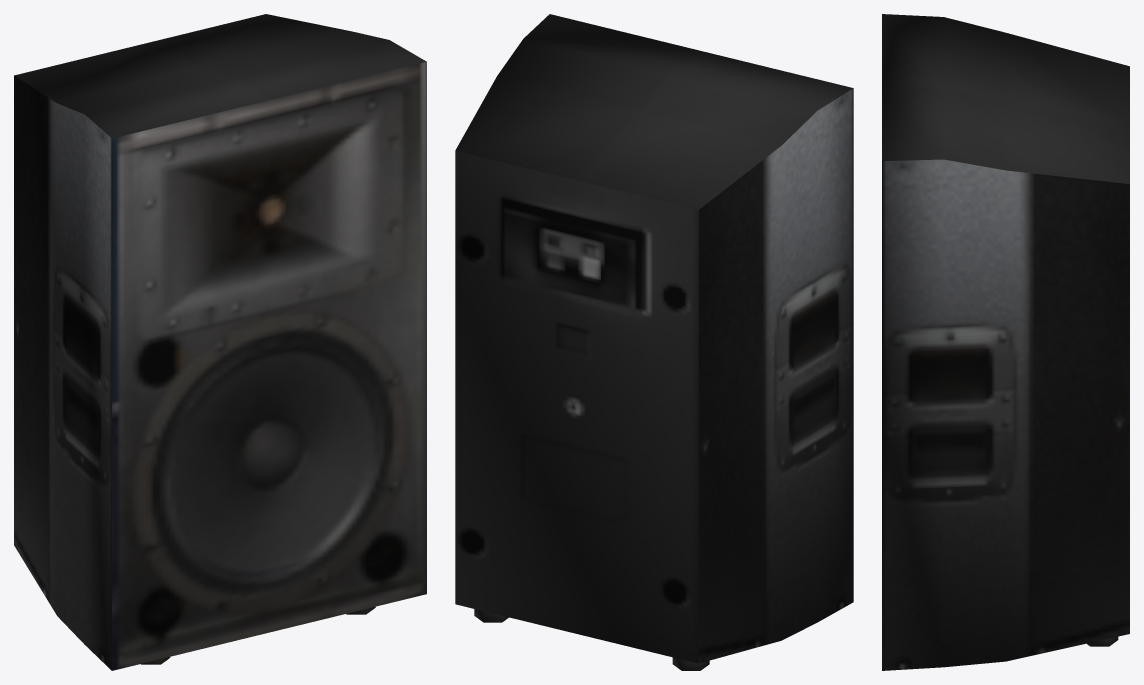
Rendered from speaker.fbx.
The picture shows the model from 3 angles, left to right: view 1: azimuth 30°, elevation 25°; view 2: azimuth 150°, elevation 25°; view 3: azimuth 270°, elevation 25°; orthographic projection. The views are drawn at different scales.
Visible parts, largest first — view 1: speaker; view 2: speaker; view 3: speaker.
Part boxes in pixels (left/top/right/bottom): speaker: left=14, top=14, right=426, bottom=670; speaker: left=455, top=14, right=853, bottom=670; speaker: left=882, top=14, right=1129, bottom=670.
Bounding box in the file's own units: 79.8 × 132 × 56.79.
1 material, 1 textured.
